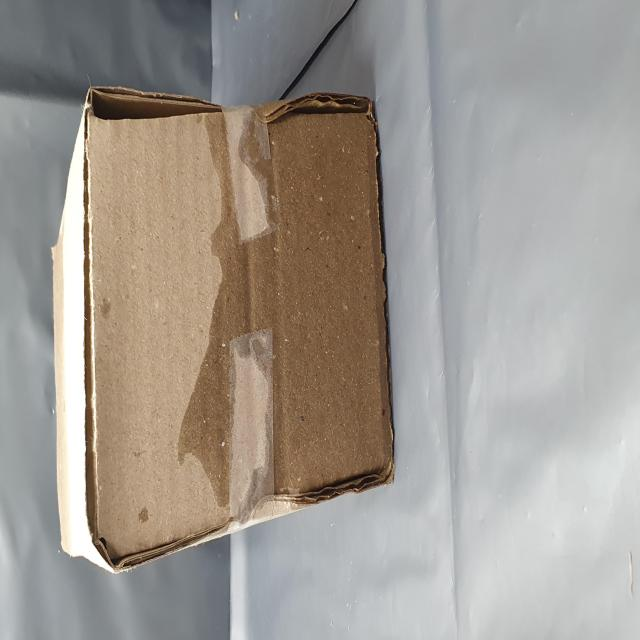wet: (54, 310, 308, 640)
